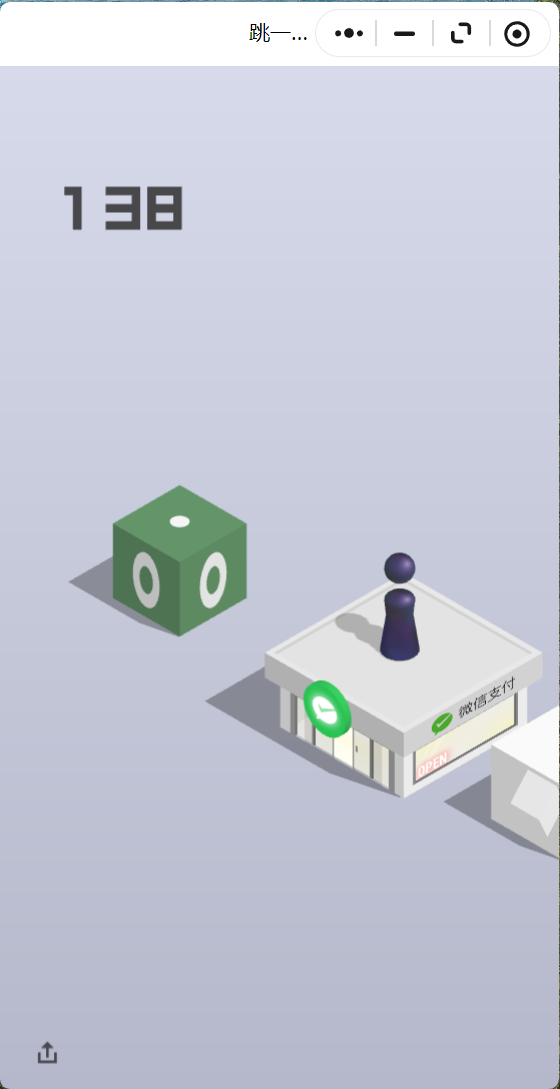piece: (385, 552, 415, 657)
target: (114, 485, 246, 560)
